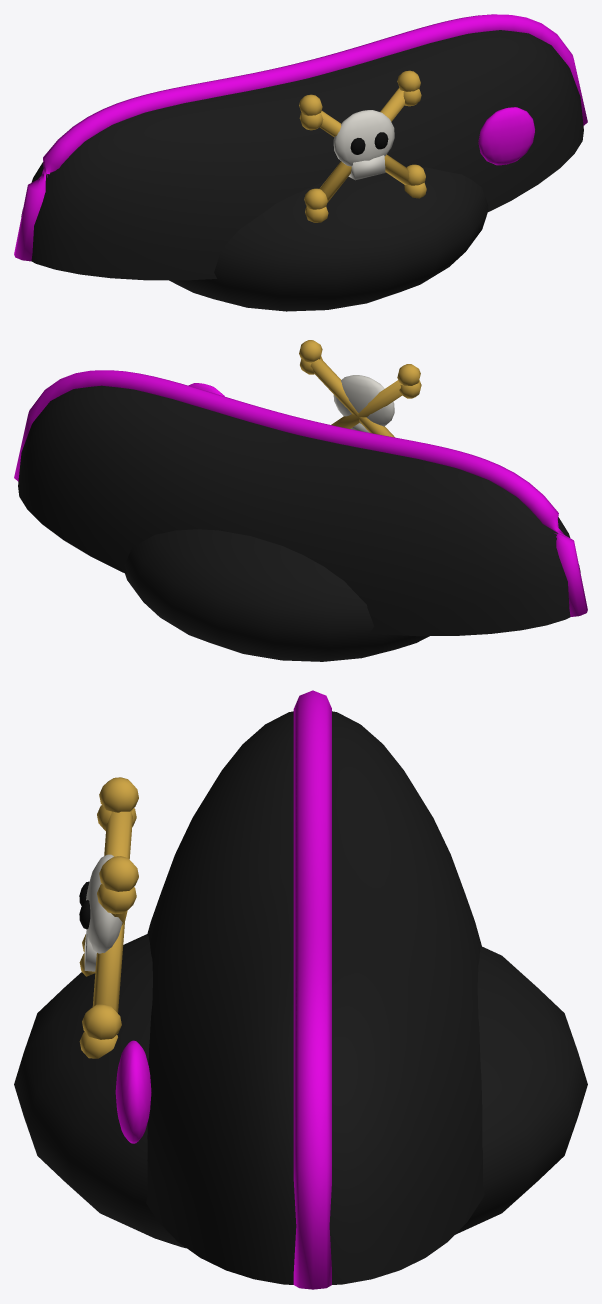
The model's file is hat_bicorne_female_hi.glb.
3 renders of one model, top to bottom at view 1: azimuth 30°, elevation 25°; view 2: azimuth 150°, elevation 25°; view 3: azimuth 270°, elevation 25°, orthographic. The views are drawn at different scales.
Visible parts, largest first — view 1: hat_bicorne_v5_female; view 2: hat_bicorne_v5_female; view 3: hat_bicorne_v5_female.
Part boxes in pixels (x1,y1,x2,y2): hat_bicorne_v5_female: [14, 14, 587, 311]; hat_bicorne_v5_female: [14, 340, 587, 661]; hat_bicorne_v5_female: [14, 690, 587, 1289].
Bounding box in the file's own units: 1.12 × 0.444 × 0.5925.
